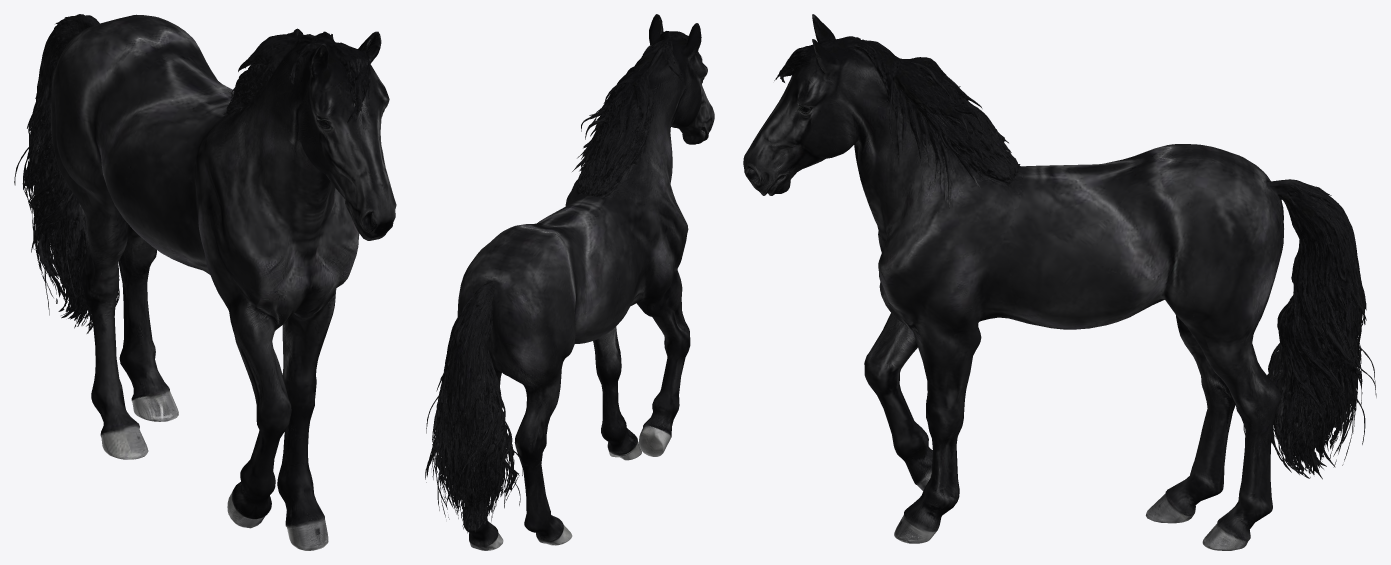
File: horse.glb
3 views of the same model, side by side, from view 1: azimuth 30°, elevation 25°; view 2: azimuth 150°, elevation 25°; view 3: azimuth 270°, elevation 25° (orthographic). The views are drawn at different scales.
Bounding box in the file's own units: 0.4523 × 1.67 × 1.9.
Materials: 1 (1 with a texture image).
